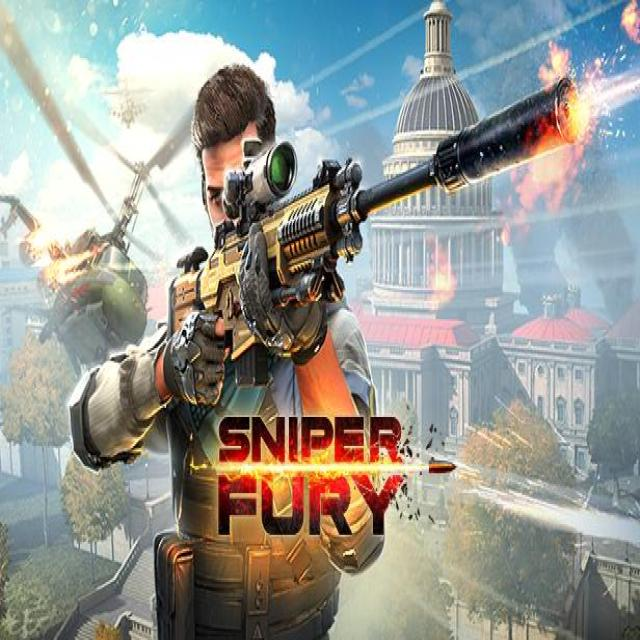weapon: (127, 67, 585, 406)
